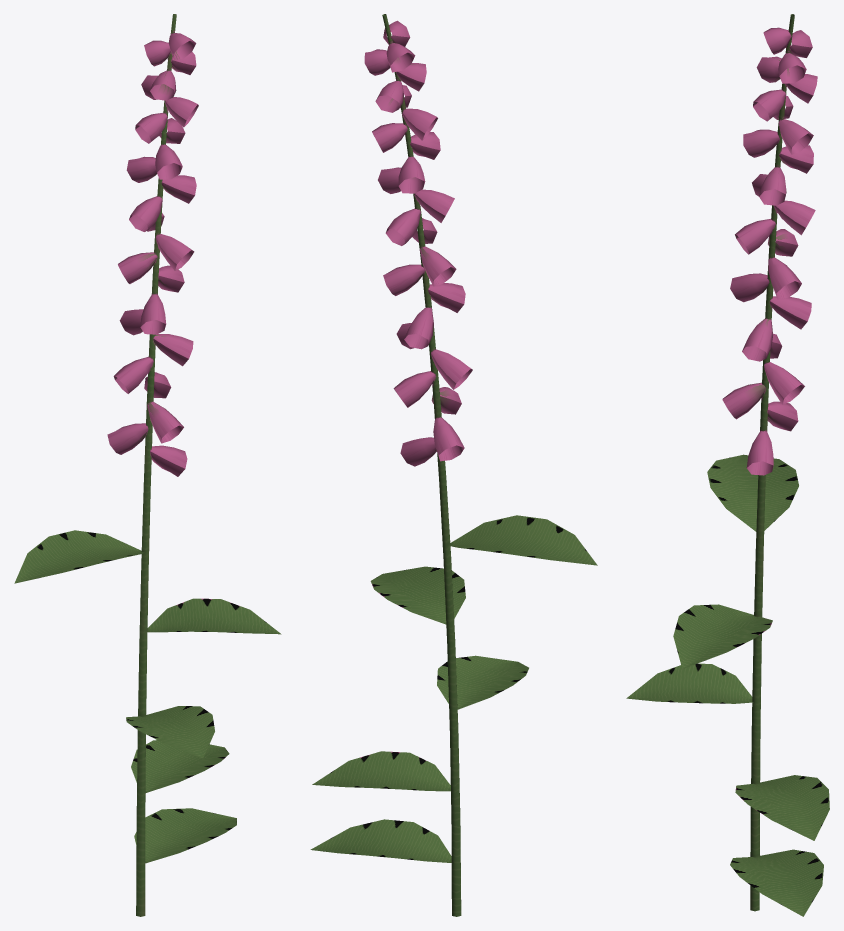
The model's file is SM_Flora_Foxglove.fbx.
3 renders of one model, left to right at view 1: azimuth 30°, elevation 25°; view 2: azimuth 150°, elevation 25°; view 3: azimuth 270°, elevation 25°, orthographic. The views are drawn at different scales.
Visible parts, largest first — view 1: SM_Flora_Foxglove; view 2: SM_Flora_Foxglove; view 3: SM_Flora_Foxglove.
Boxes of the visible parts, x1,y1,x2,y2 form: SM_Flora_Foxglove: (14, 14, 281, 916); SM_Flora_Foxglove: (310, 14, 597, 916); SM_Flora_Foxglove: (626, 14, 829, 916).
Bounding box in the file's own units: 33.06 × 22.07 × 110.
